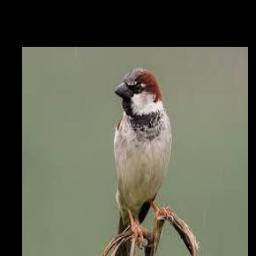Sparrow: (112, 67, 173, 256)
